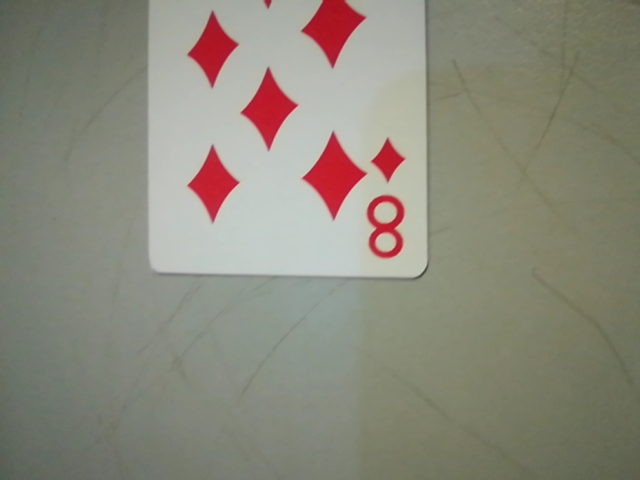fk 8: (355, 129, 420, 270)
